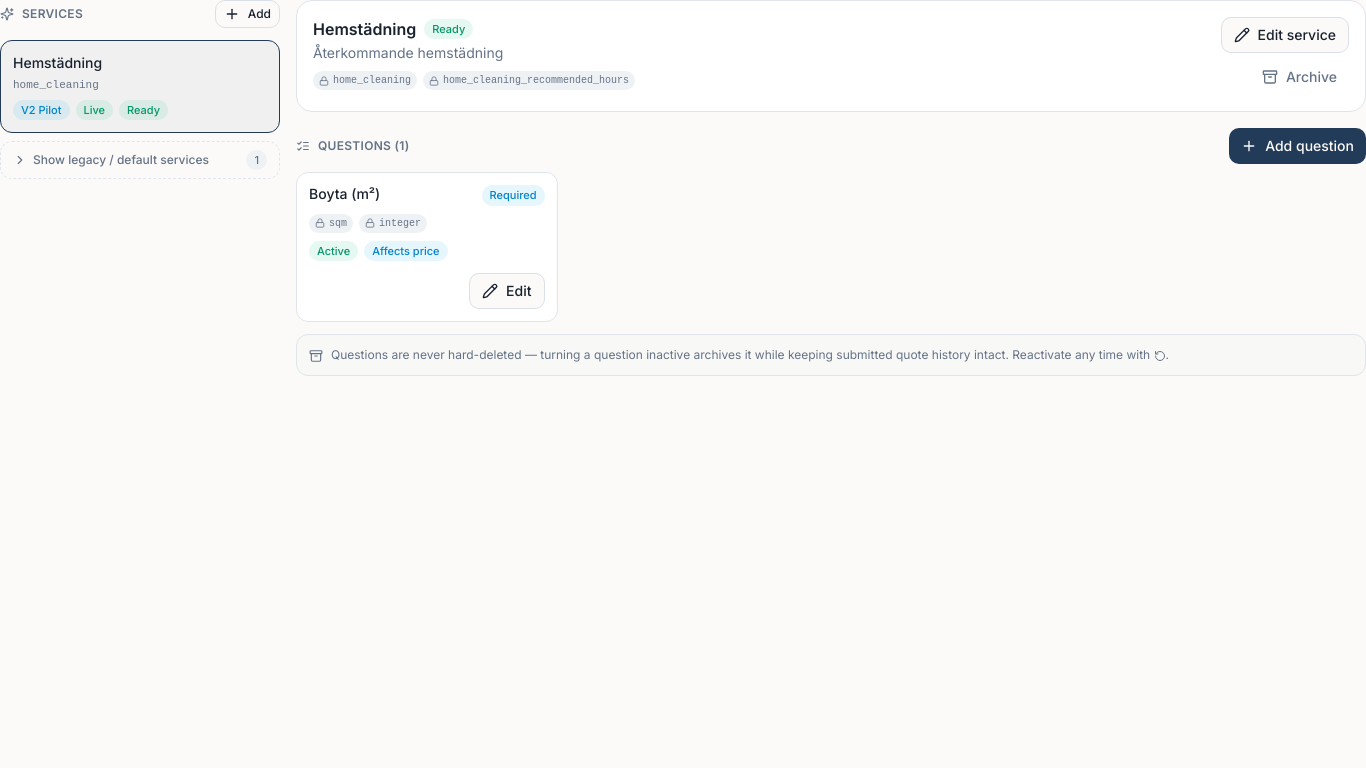
Test: ServicesFieldsEditor — archive + enable guard (Slice 12C) › locks the Enabled switch for a service whose pricing model is unsupported
Click the button "Show legacy / default services 1". click: (140, 160)
box: [0, 141, 280, 179]
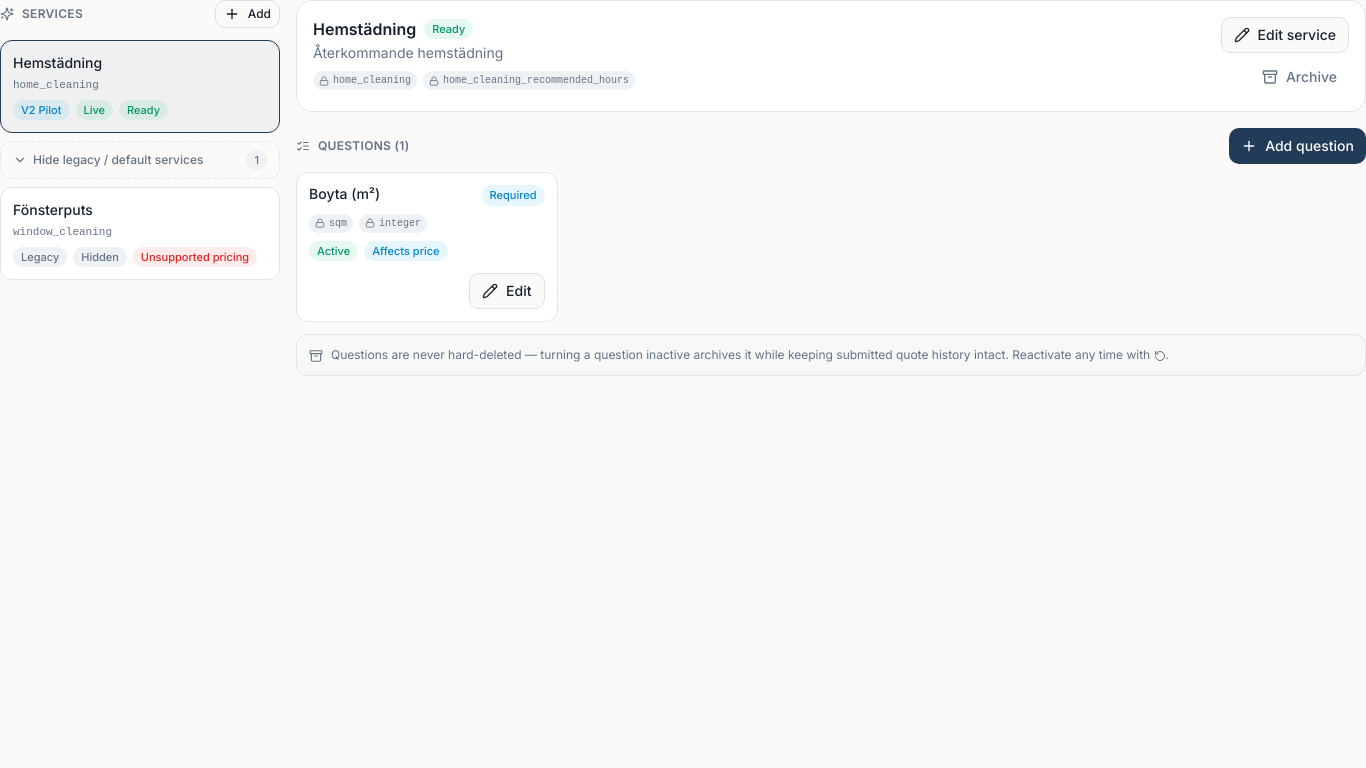
// Select the window service from the list.
Click the button "Fönsterputs". click: (53, 210)
box: [0, 187, 280, 280]
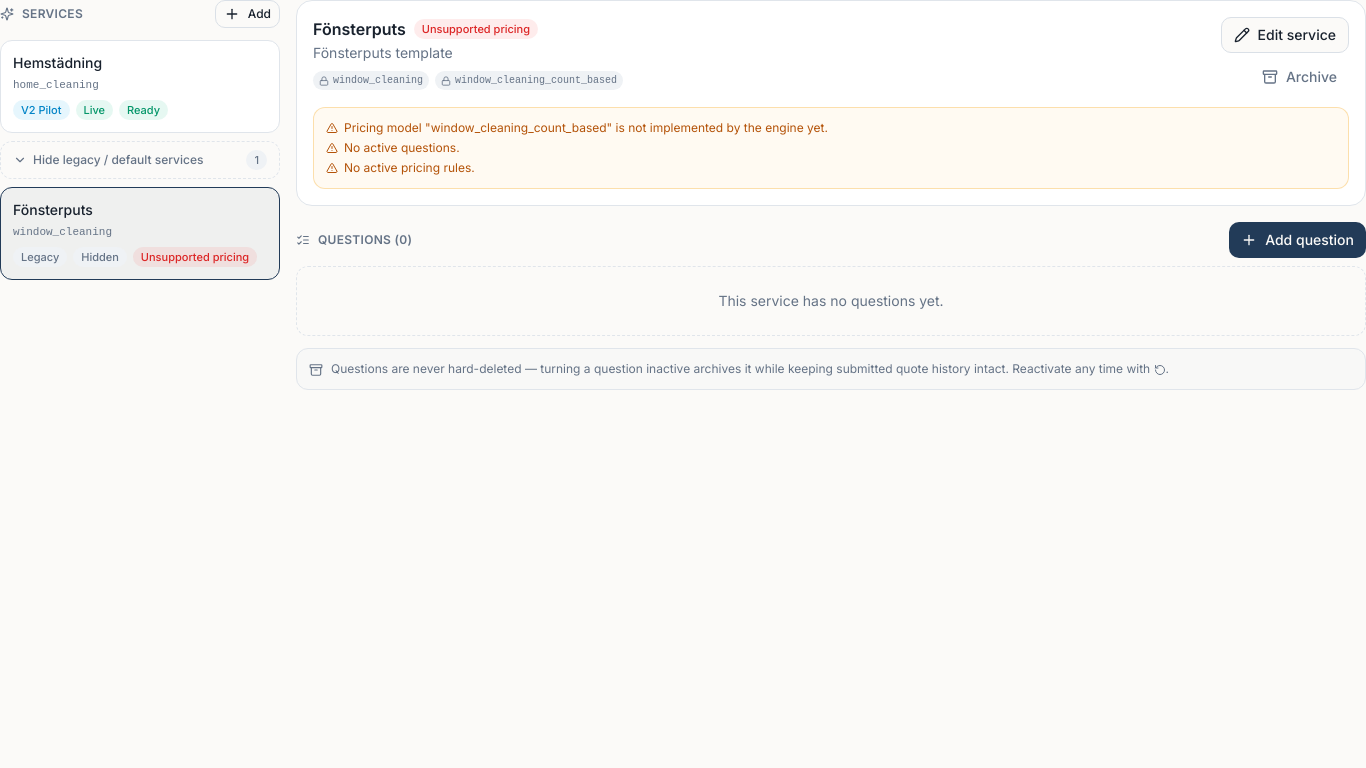
Click the button "Edit service". click: (1285, 35)
box: [1221, 17, 1349, 53]
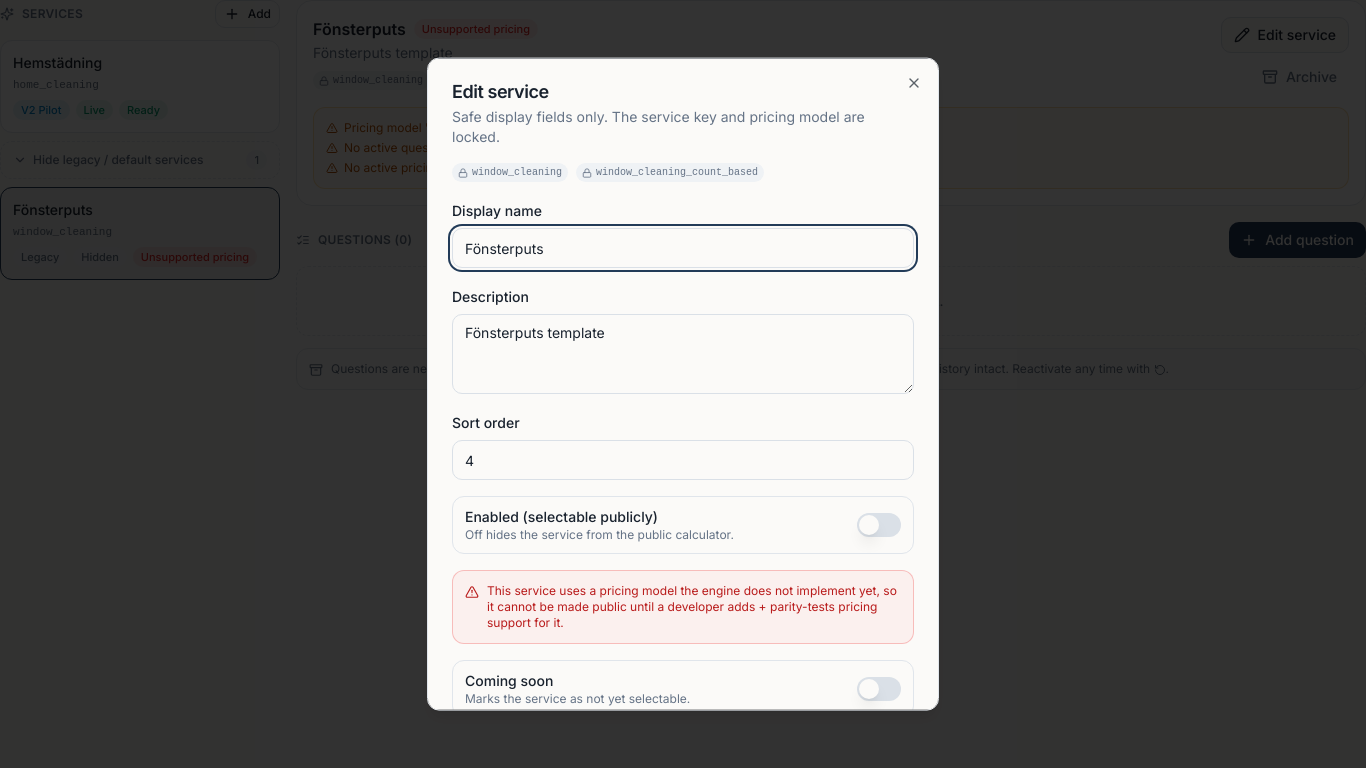
Expected: the switch named "Service enabled" is disabled, [857, 513, 901, 537]
Expected: the text "does not implement yet" is shown, [487, 583, 897, 630]
